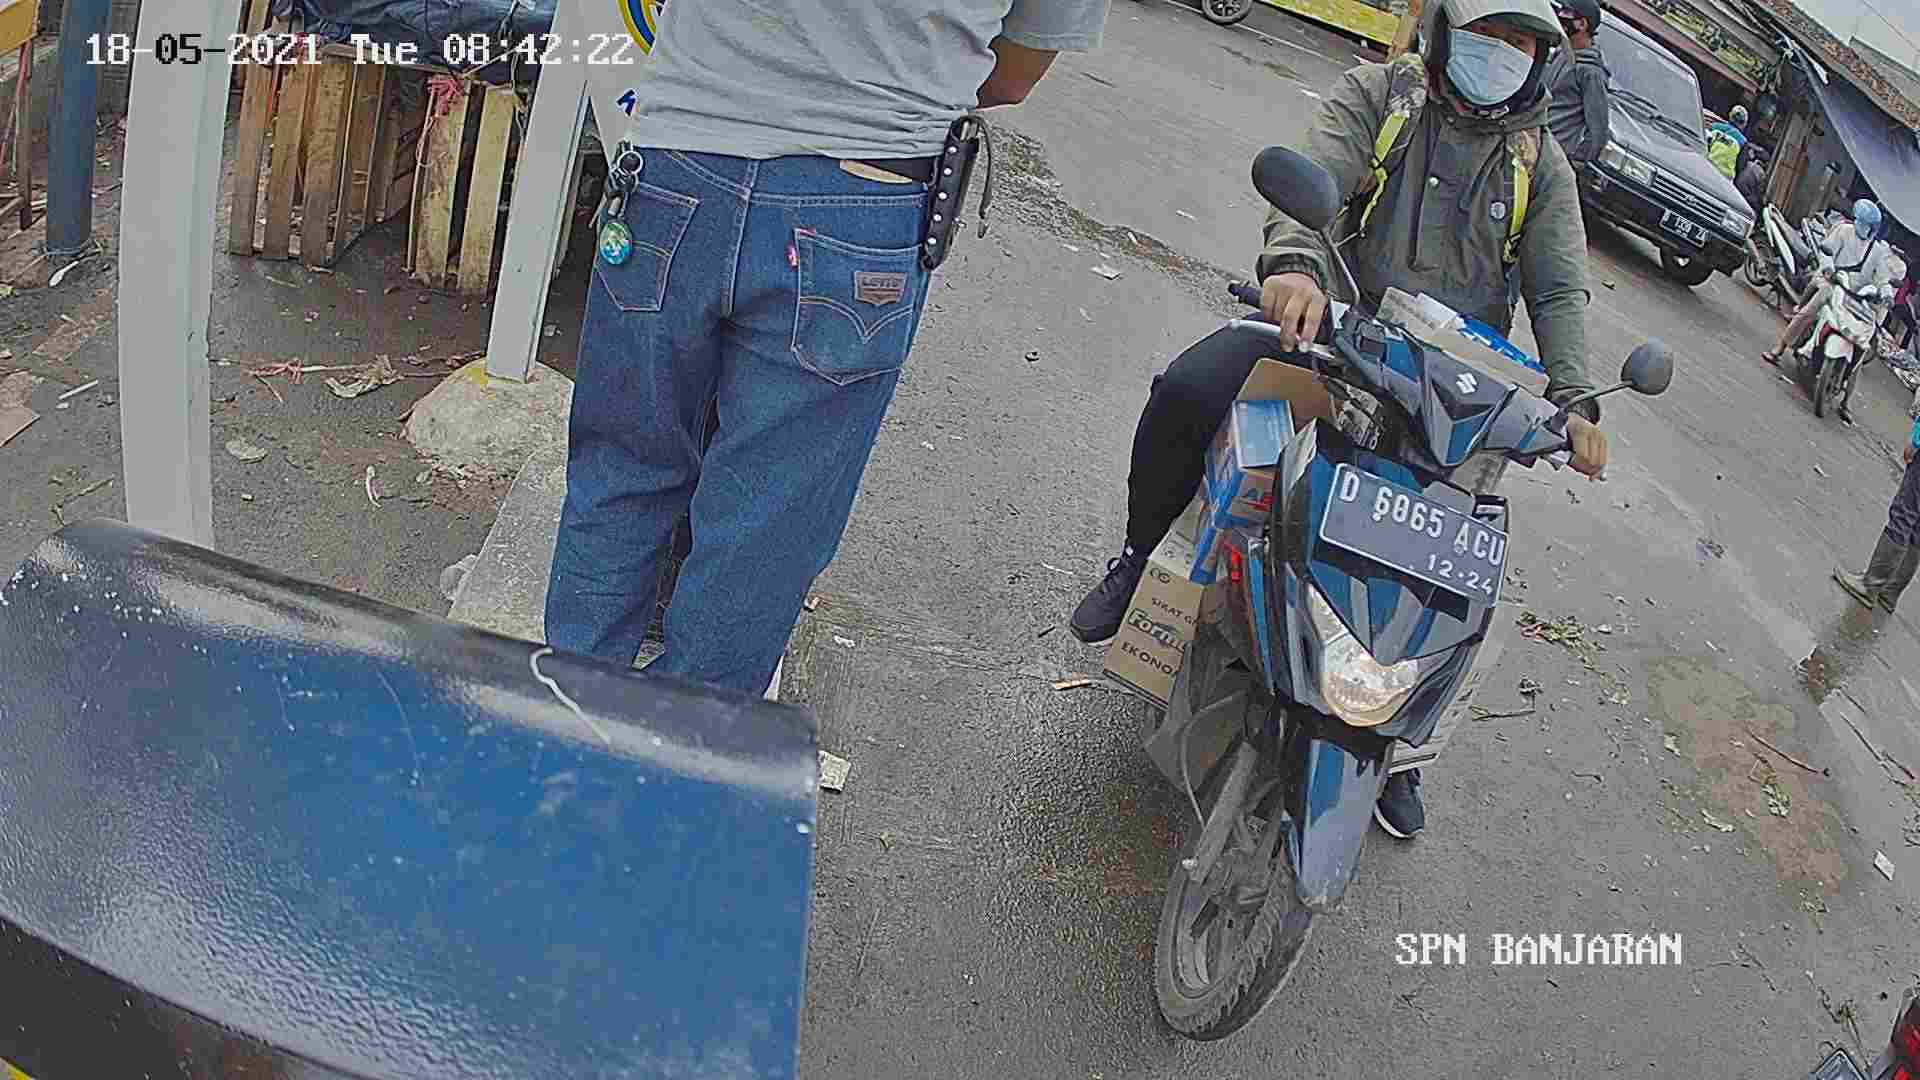motor: (1083, 194, 1560, 1033)
